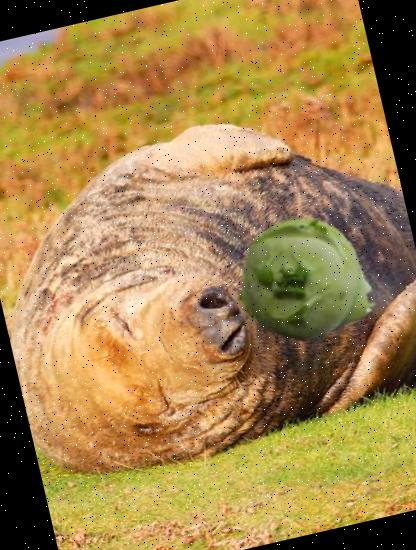Kohlrabi: (224, 195, 394, 364)
